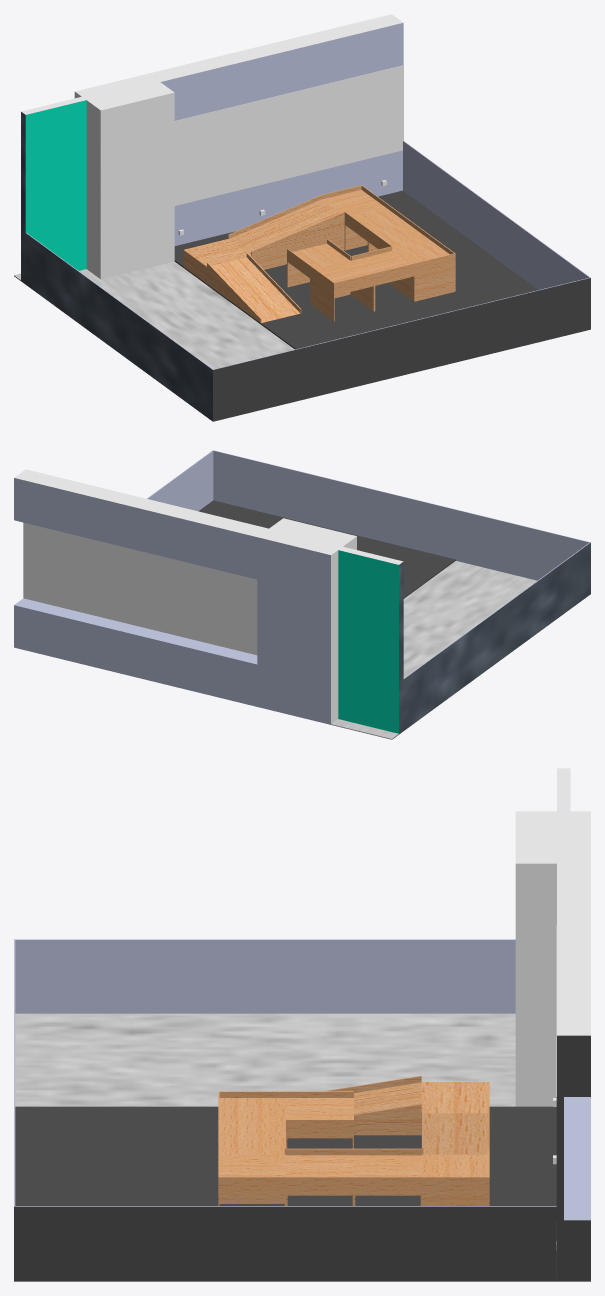
3 views of the same model, one above another, from view 1: azimuth 30°, elevation 25°; view 2: azimuth 150°, elevation 25°; view 3: azimuth 270°, elevation 25° (orthographic). The views are drawn at different scales.
Parts seen in each view (by area): view 1: _3DGeom-15, _3DGeom-12, _3DGeom-10, _3DGeom-13, _3DGeom-16, _3DGeom-11, _3DGeom-17, _3DGeom-18; view 2: _3DGeom-12, _3DGeom-16, _3DGeom-11, _3DGeom-18, _3DGeom-17, _3DGeom-13, _3DGeom-15; view 3: _3DGeom-15, _3DGeom-12, _3DGeom-17, _3DGeom-10, _3DGeom-13.
Boxes of the visible parts, x1,y1,x2,y2 form: _3DGeom-15: (174,190,590,421); _3DGeom-12: (26,23,590,369); _3DGeom-10: (183,185,455,322); _3DGeom-13: (21,14,403,279); _3DGeom-16: (174,65,403,205); _3DGeom-11: (14,112,212,421); _3DGeom-17: (14,261,294,369); _3DGeom-18: (25,100,86,270); _3DGeom-12: (14,450,590,739); _3DGeom-16: (23,522,257,655); _3DGeom-11: (392,542,590,739); _3DGeom-18: (338,550,398,733); _3DGeom-17: (331,561,536,738); _3DGeom-13: (14,469,403,723); _3DGeom-15: (198,500,455,598); _3DGeom-15: (14,1035,590,1281); _3DGeom-12: (14,939,590,1220); _3DGeom-17: (15,1013,515,1106); _3DGeom-10: (218,1075,489,1205); _3DGeom-13: (515,768,590,1106).
Bounding box in the file's own units: 9.32 × 8.5 × 4.
Materials: 9 (3 with a texture image).
